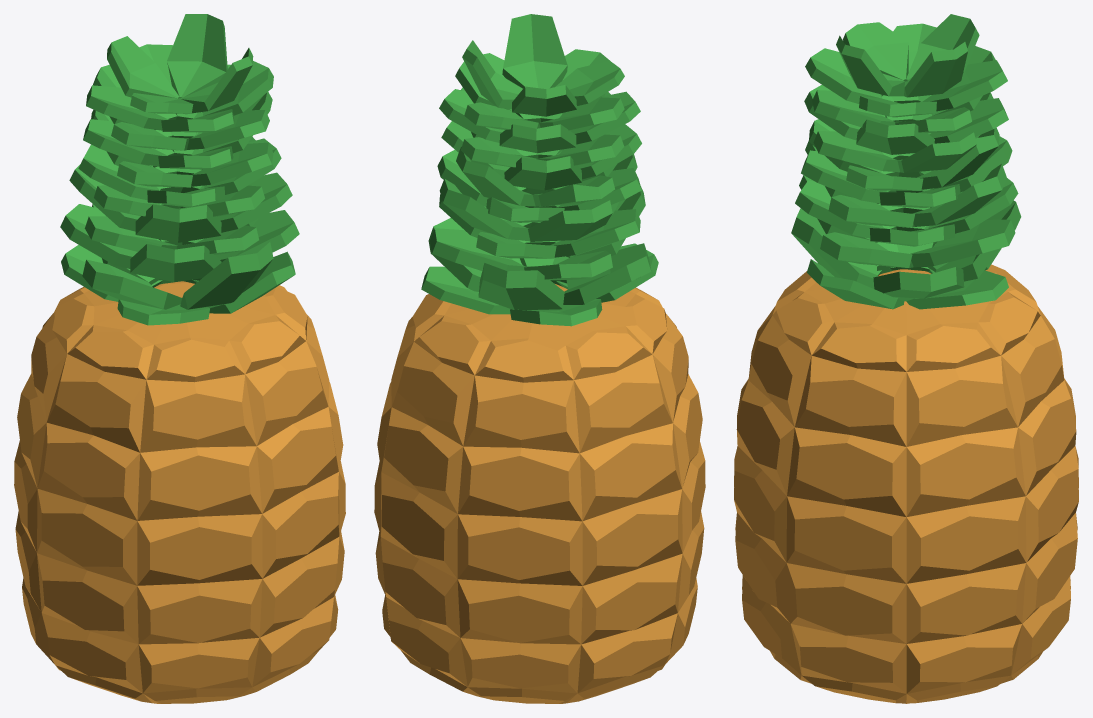
Rendered from Pineapple.glb.
3 renders of one model, left to right at view 1: azimuth 30°, elevation 25°; view 2: azimuth 150°, elevation 25°; view 3: azimuth 270°, elevation 25°, orthographic. The views are drawn at different scales.
Visible parts, largest first — view 1: pineapple_Circle.004; view 2: pineapple_Circle.004; view 3: pineapple_Circle.004.
Part boxes in pixels (x1=…): pineapple_Circle.004: x1=14, y1=14, x2=345, y2=703; pineapple_Circle.004: x1=374, y1=14, x2=705, y2=703; pineapple_Circle.004: x1=734, y1=14, x2=1078, y2=703.
Size of the model in its own units: 5.94 by 12.21 by 5.94.
